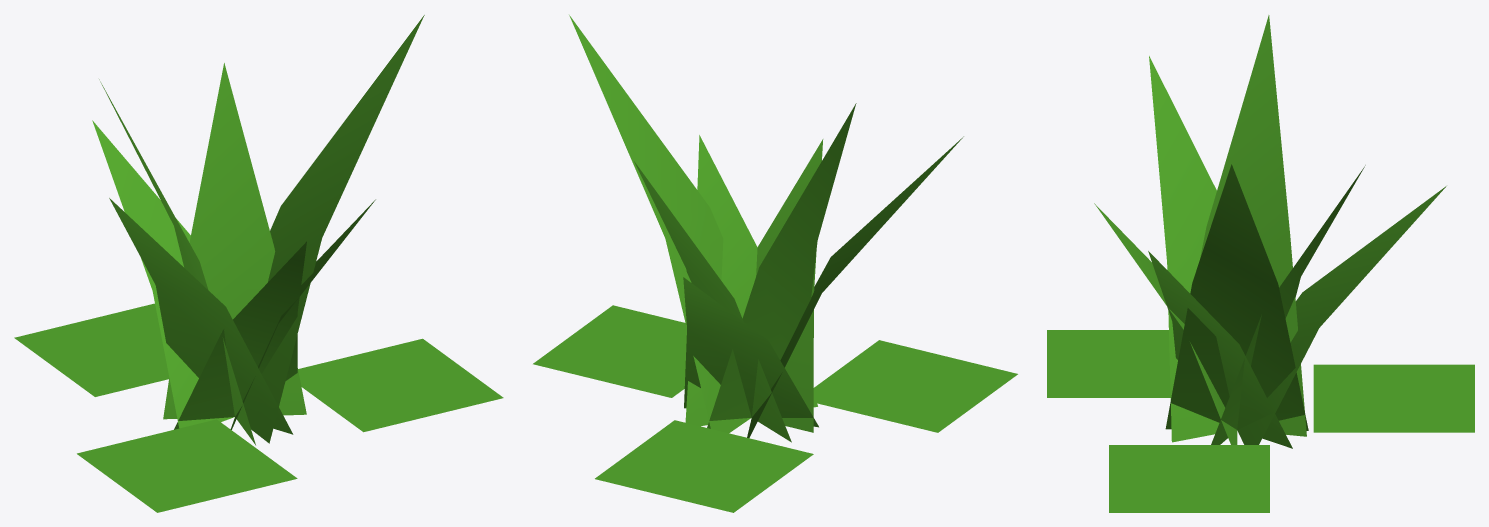
File: grass_tuft_diorama.glb
3 renders of one model, left to right at view 1: azimuth 30°, elevation 25°; view 2: azimuth 150°, elevation 25°; view 3: azimuth 270°, elevation 25°, orthographic.
Visible parts, largest first — view 1: DioramaGrassTuft; view 2: DioramaGrassTuft; view 3: DioramaGrassTuft.
Part boxes in pixels (x1,y1,x2,y2): DioramaGrassTuft: (14,15,503,512); DioramaGrassTuft: (533,15,1017,512); DioramaGrassTuft: (1047,15,1474,512).
Size of the model in its own units: 0.484 by 0.44 by 0.4778.
